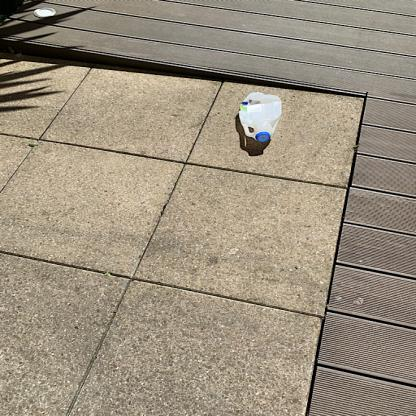trash: (236, 90, 284, 142)
